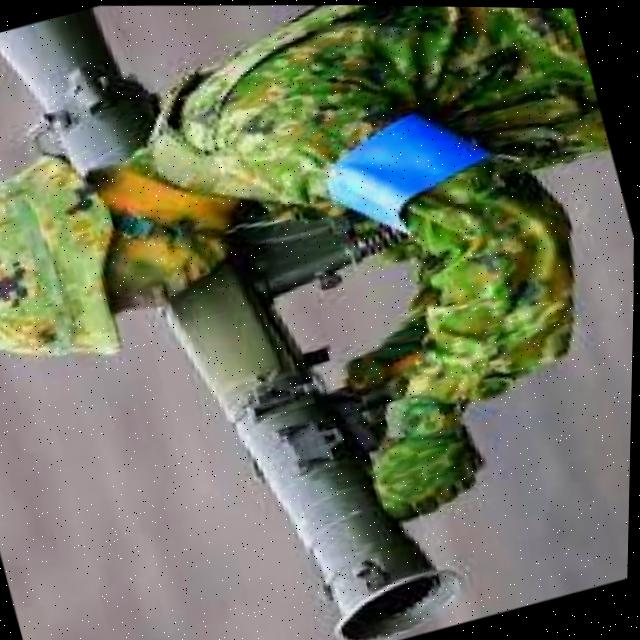rocket: (145, 231, 475, 640)
